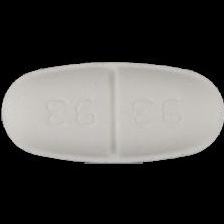55154-5567: (0, 0, 224, 224)
